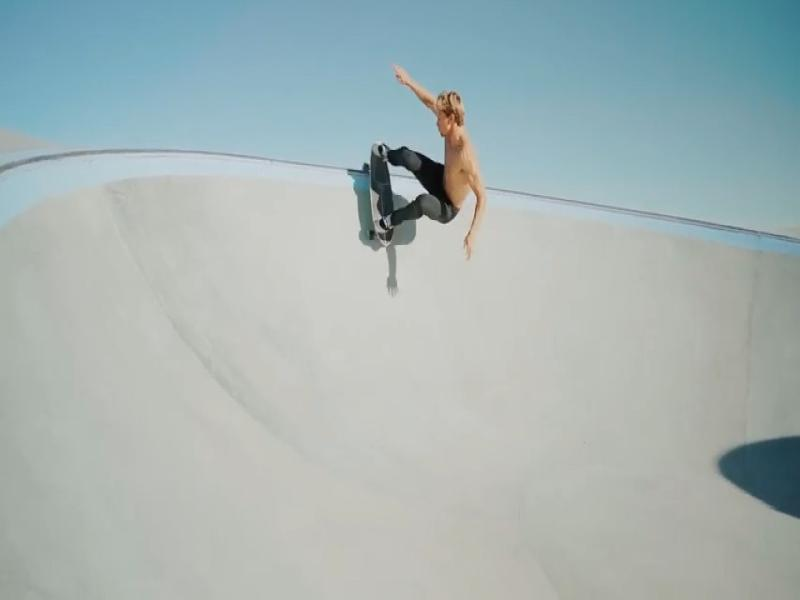person: (373, 65, 486, 260)
skate: (369, 146, 395, 220)
